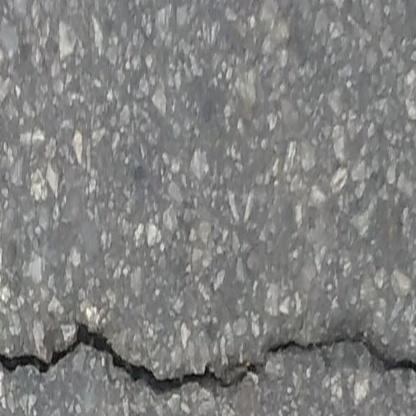Cracks: (0, 314, 416, 406)
